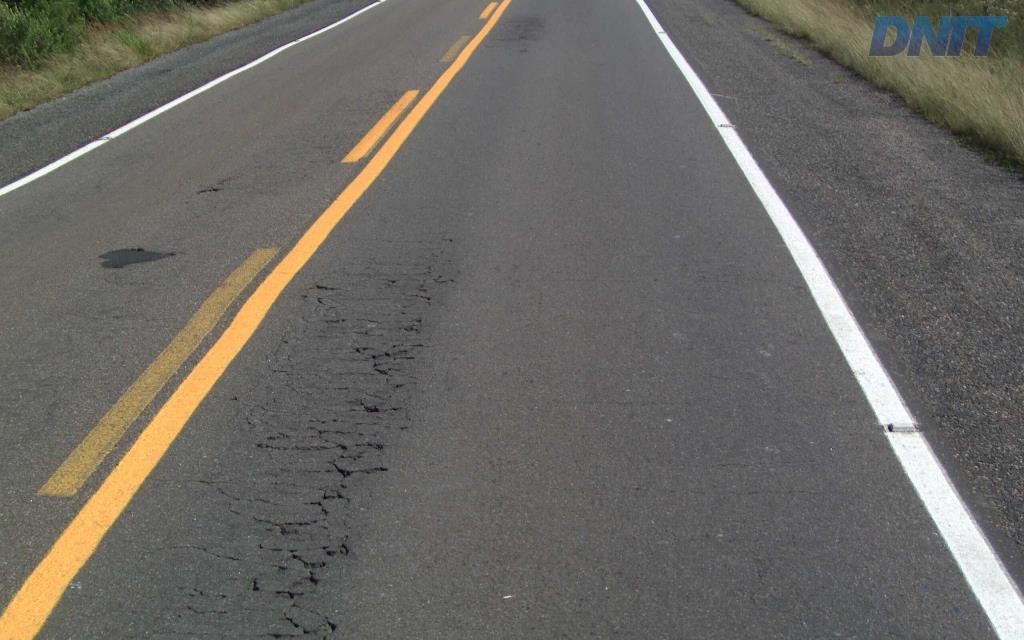crack: (318, 458, 388, 504), (270, 548, 329, 600), (361, 349, 415, 377), (278, 611, 338, 636), (291, 441, 366, 461), (252, 516, 317, 538), (344, 394, 402, 417)
